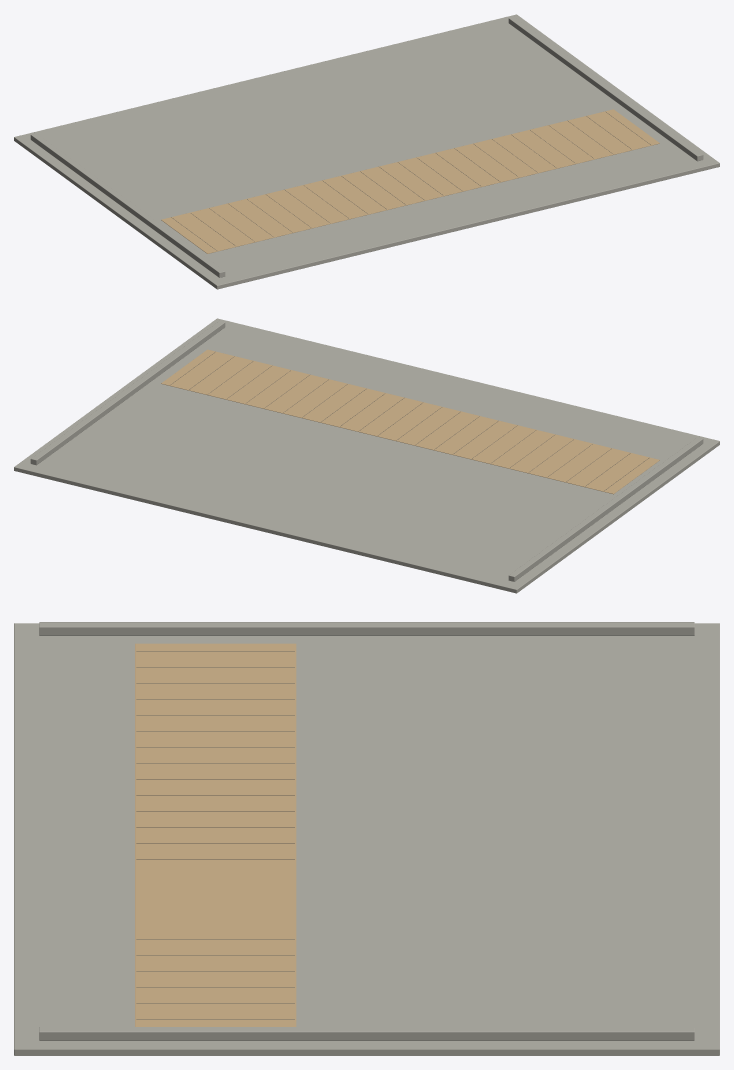
File: bookbinding-and-paper-mill-bindery-courtyard-base-27140d6d__30595.glb
3 renders of one model, top to bottom at view 1: azimuth 30°, elevation 25°; view 2: azimuth 150°, elevation 25°; view 3: azimuth 270°, elevation 25°, orthographic. The views are drawn at different scales.
Visible parts, largest first — view 1: bindery-courtyard-base; view 2: bindery-courtyard-base; view 3: bindery-courtyard-base.
Boxes of the visible parts, box(x1,y1,x2,y2) form: bindery-courtyard-base: box(14, 14, 719, 289); bindery-courtyard-base: box(14, 318, 719, 593); bindery-courtyard-base: box(14, 622, 719, 1055).
Bounding box in the file's own units: 20 × 0.3491 × 14.
